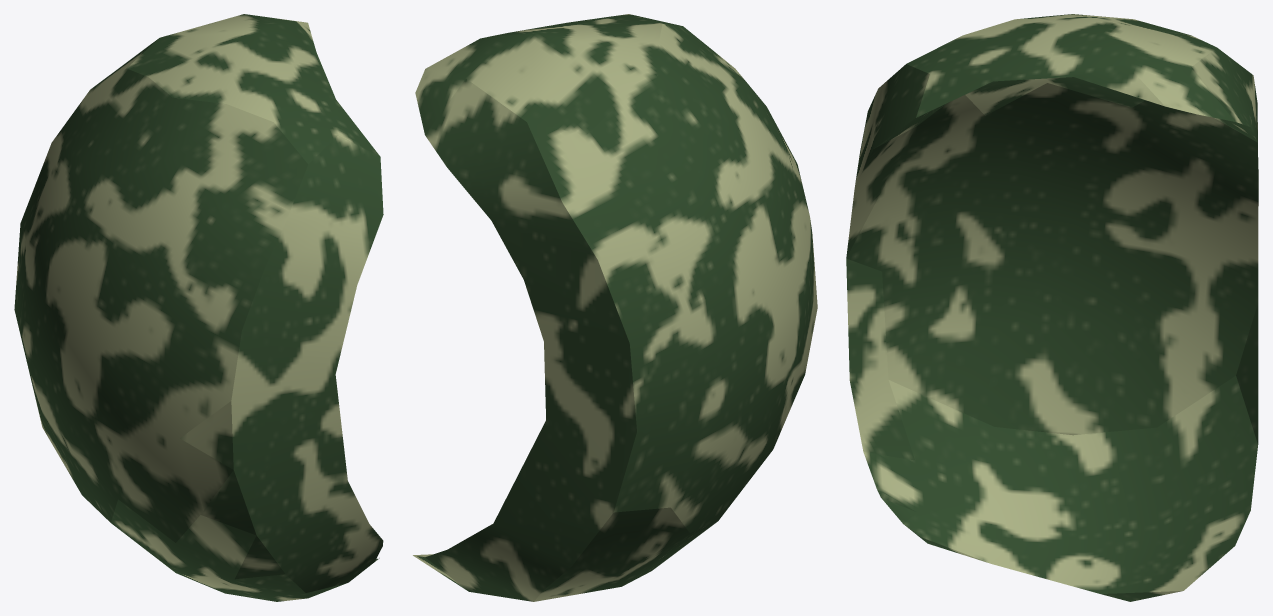
The model's file is link_body_07_composite.obj.
3 views of the same model, side by side, from view 1: azimuth 30°, elevation 25°; view 2: azimuth 150°, elevation 25°; view 3: azimuth 270°, elevation 25° (orthographic). The views are drawn at different scales.
Parts seen in each view (by area): view 1: link_body_07; view 2: link_body_07; view 3: link_body_07.
Boxes of the visible parts, x1,y1,x2,y2 form: link_body_07: (14, 14, 383, 601); link_body_07: (413, 14, 817, 601); link_body_07: (846, 14, 1258, 601).
Size of the model in its own units: 12.29 by 21.21 by 14.36.
Materials: 1 (1 with a texture image).
